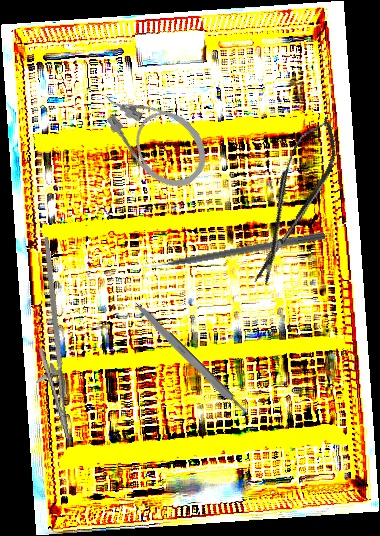Cannula: (89, 67, 220, 200)
Micro Scissor: (235, 111, 351, 292)
Needle Holder: (4, 236, 95, 443)
Pusher: (140, 229, 326, 273)
Scalpel Handle: (130, 299, 250, 419)
